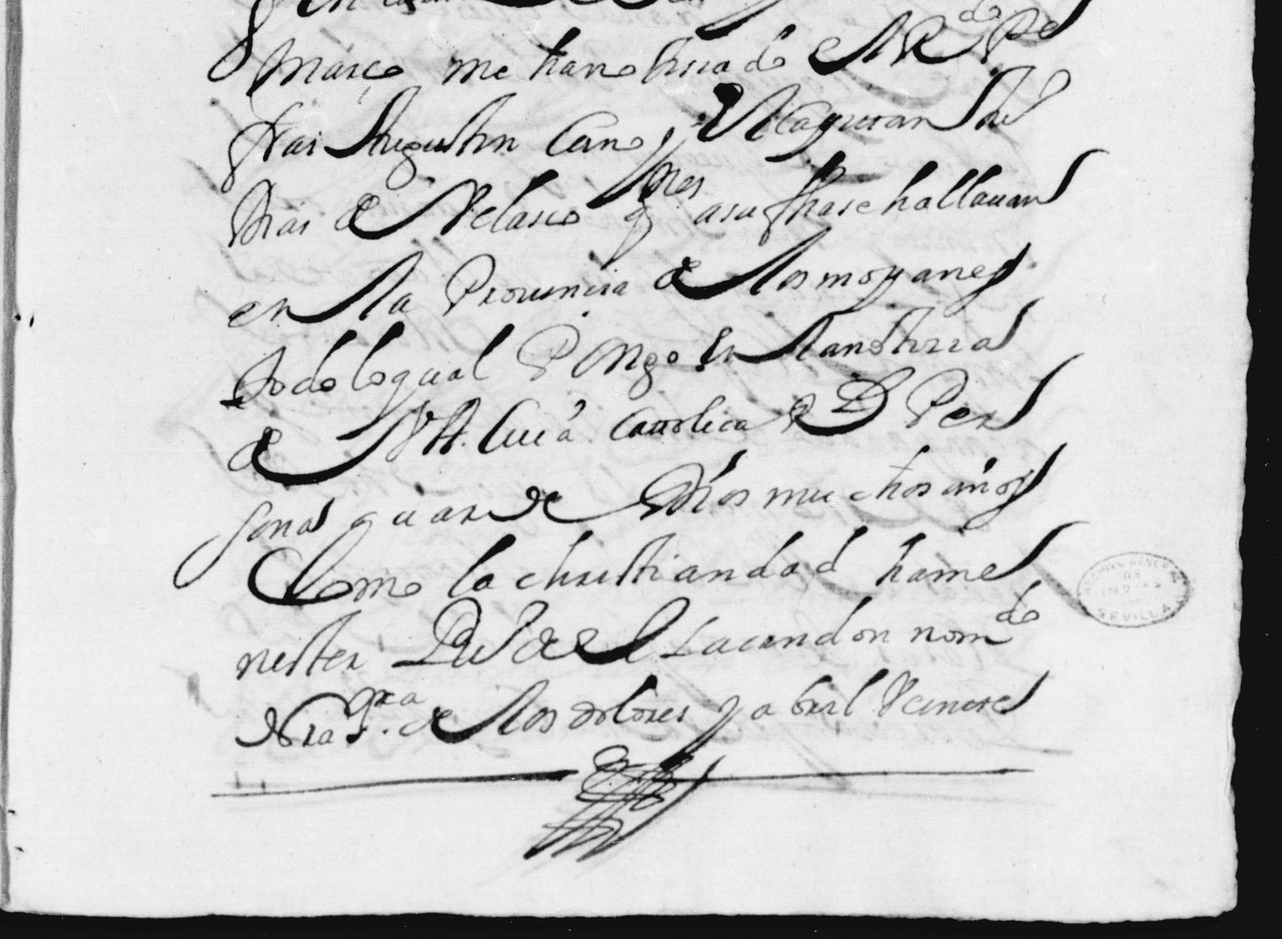lacandon: (659, 595, 890, 658)
